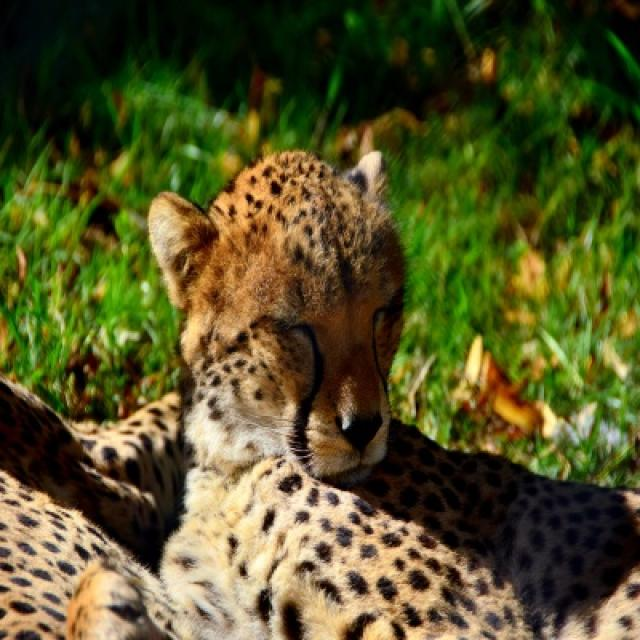Cheetah: (150, 152, 638, 638)
